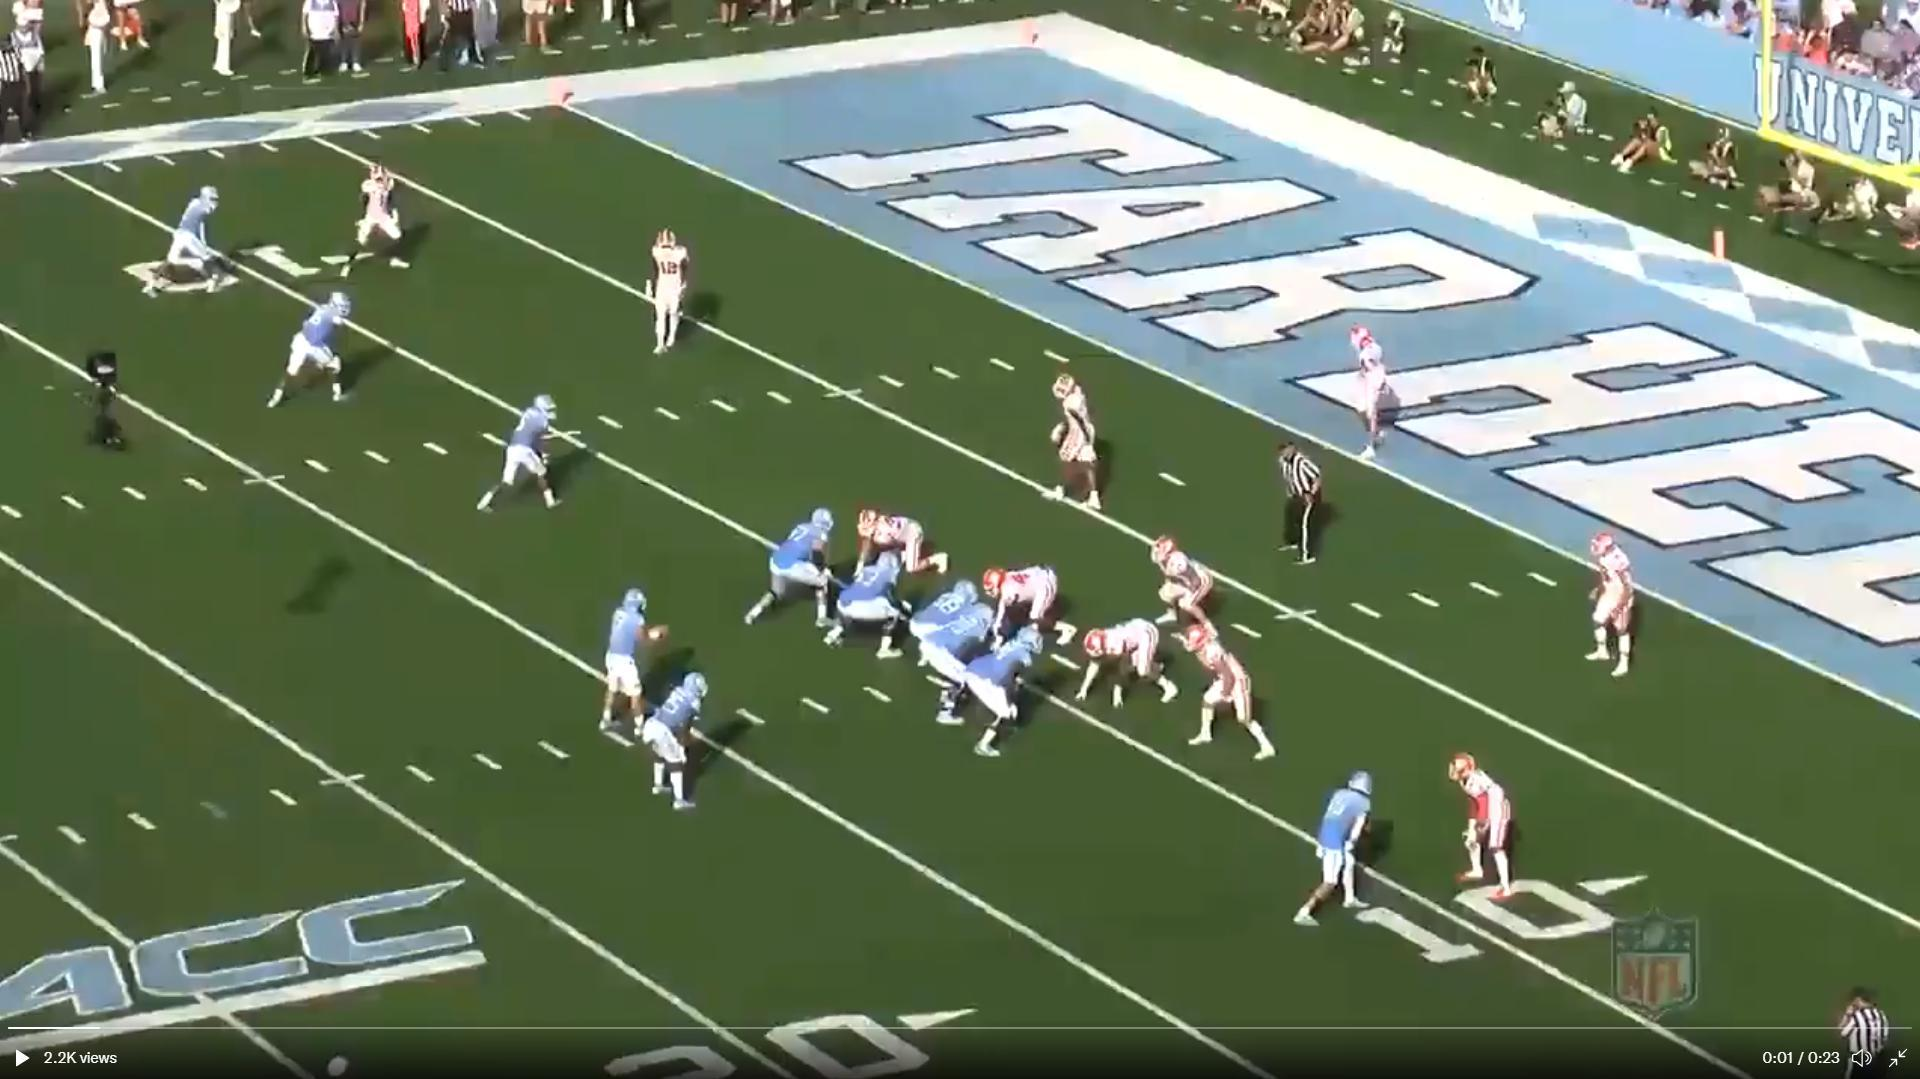player: (1288, 768, 1377, 932), (1187, 623, 1284, 769), (749, 509, 847, 640), (475, 390, 570, 521), (266, 288, 364, 414), (136, 183, 244, 297), (949, 633, 1040, 763), (1445, 750, 1519, 905), (826, 551, 914, 664), (1044, 364, 1107, 515), (979, 565, 1083, 655), (600, 584, 661, 737), (1581, 527, 1640, 685), (918, 605, 997, 723), (642, 671, 709, 810), (903, 575, 981, 694), (1075, 617, 1177, 707), (344, 164, 418, 279), (1148, 535, 1217, 652), (1346, 323, 1397, 475), (848, 504, 934, 583), (644, 227, 694, 362)
ref: (1273, 436, 1334, 571), (1836, 988, 1904, 1077), (0, 20, 48, 145)
